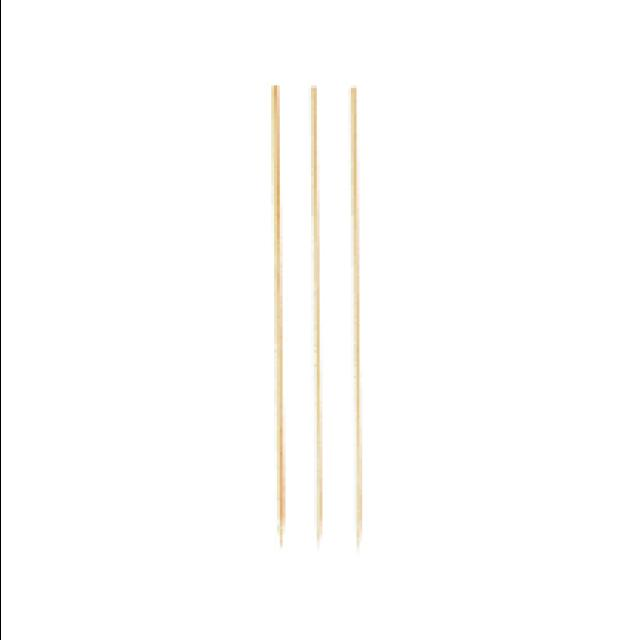stick: (272, 85, 284, 544), (351, 88, 361, 548), (312, 86, 322, 541)
